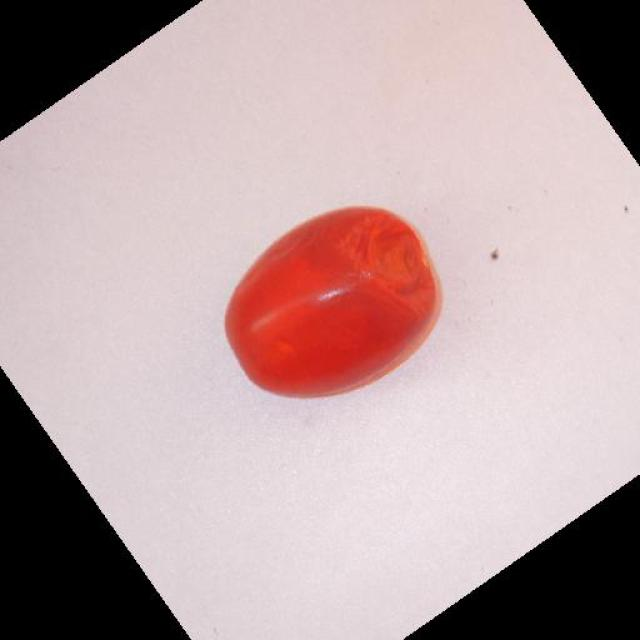Stale_tomato: (214, 201, 450, 416)
